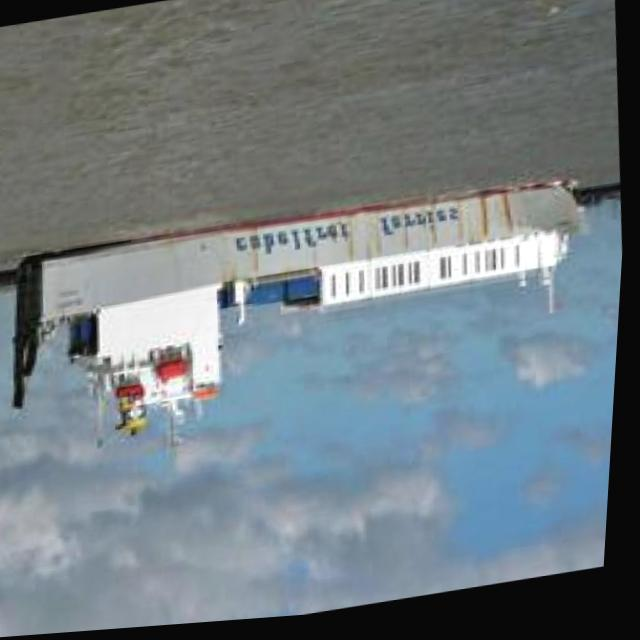ship2: (17, 182, 590, 452)
